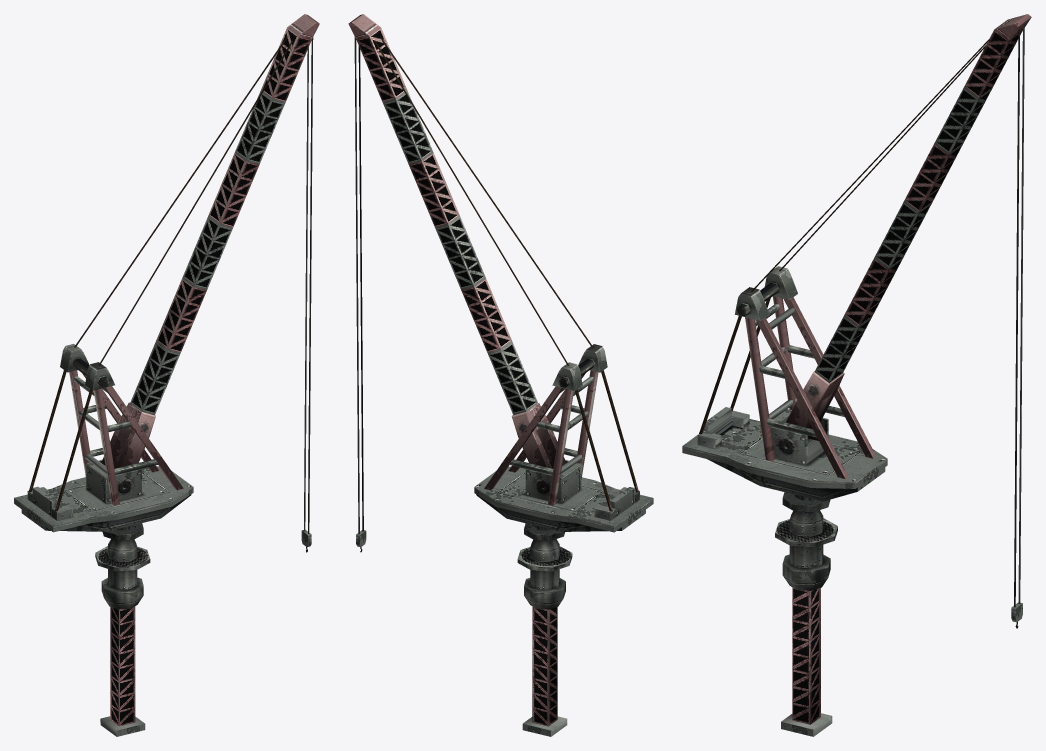
The model's file is crane2.glb.
The picture shows the model from 3 angles, left to right: view 1: azimuth 30°, elevation 25°; view 2: azimuth 150°, elevation 25°; view 3: azimuth 330°, elevation 25°; orthographic projection. The views are drawn at different scales.
Parts seen in each view (by area): view 1: Regroup01; view 2: Regroup01; view 3: Regroup01.
Part boxes in pixels (<box>): Regroup01: <box>14,14,319,736</box>; Regroup01: <box>348,14,653,736</box>; Regroup01: <box>682,14,1031,736</box>.
Size of the model in its own units: 22.19 by 50.23 by 6.28.
1 material, 1 textured.
